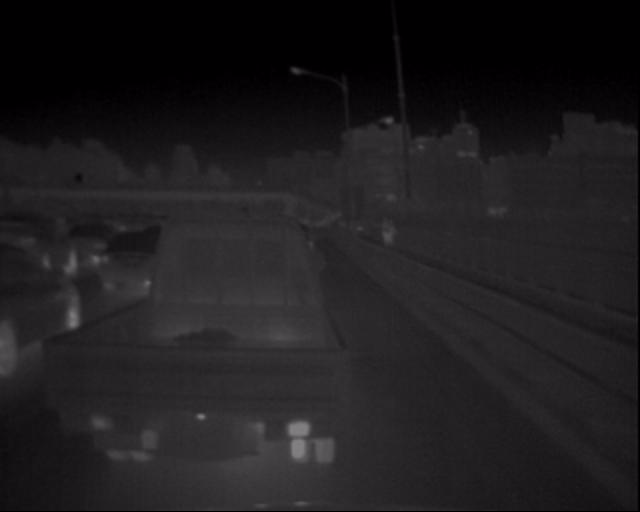person: (376, 210, 405, 255)
